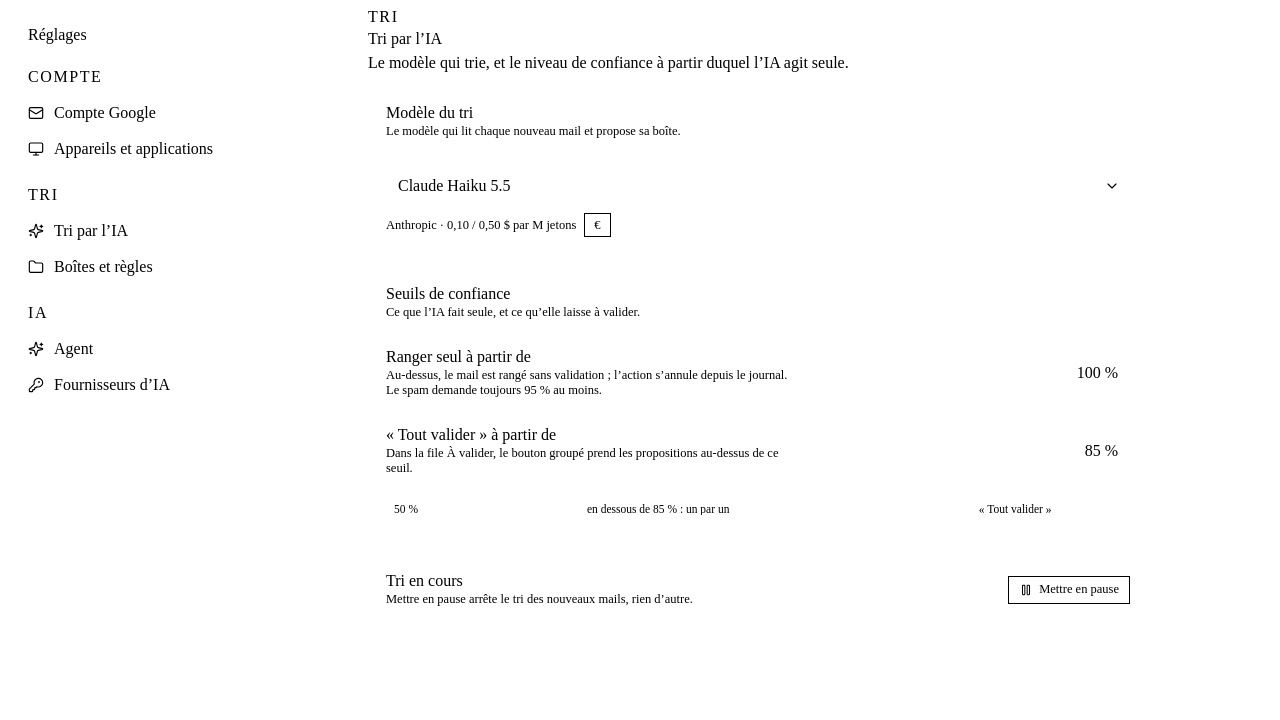
Test: Settings › a label without a role shows as Ignorée; a refused change goes back
Expected: the heading "Réglages" is shown, top-left (28, 26), bottom-right (87, 43)
Click the link "Boîtes et règles" at {"x": 90, "y": 266}, box top-left (28, 258), bottom-right (153, 275)
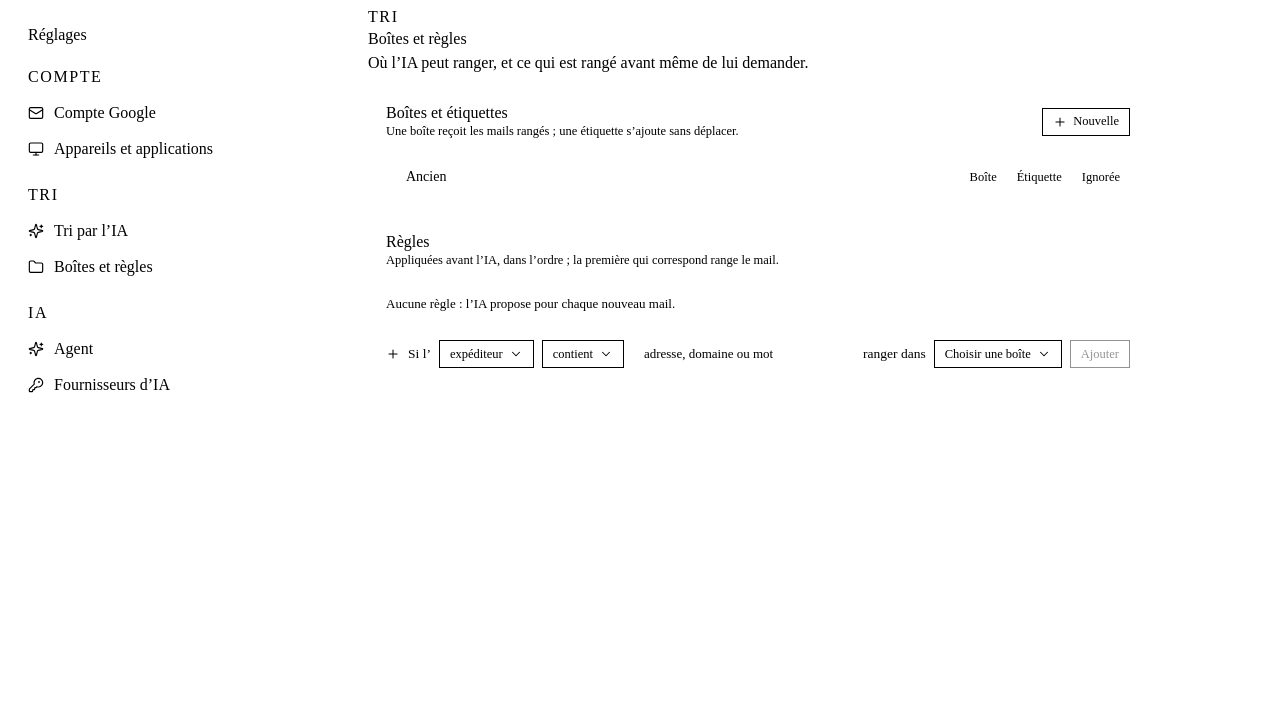
Click the radio button labelled "Boîte" at {"x": 983, "y": 177}, box top-left (960, 164), bottom-right (1007, 190)
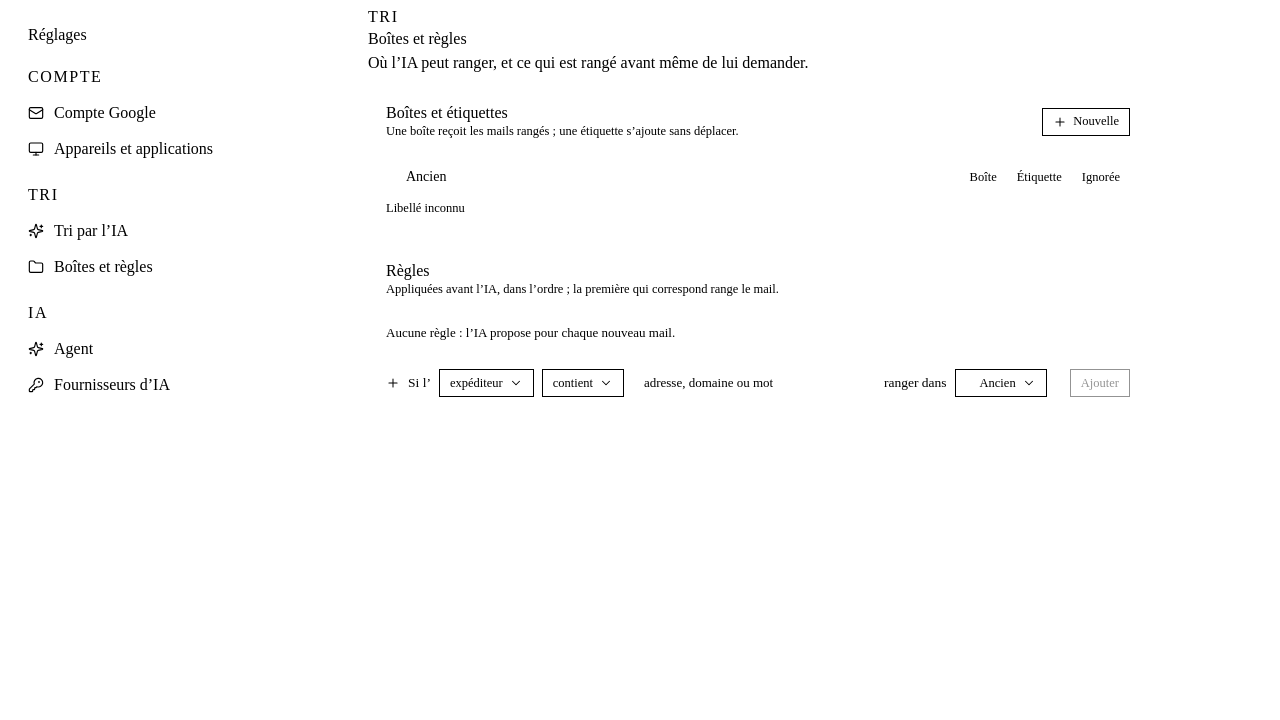
Now the text "Libellé inconnu" is shown, box top-left (386, 201), bottom-right (465, 215)
